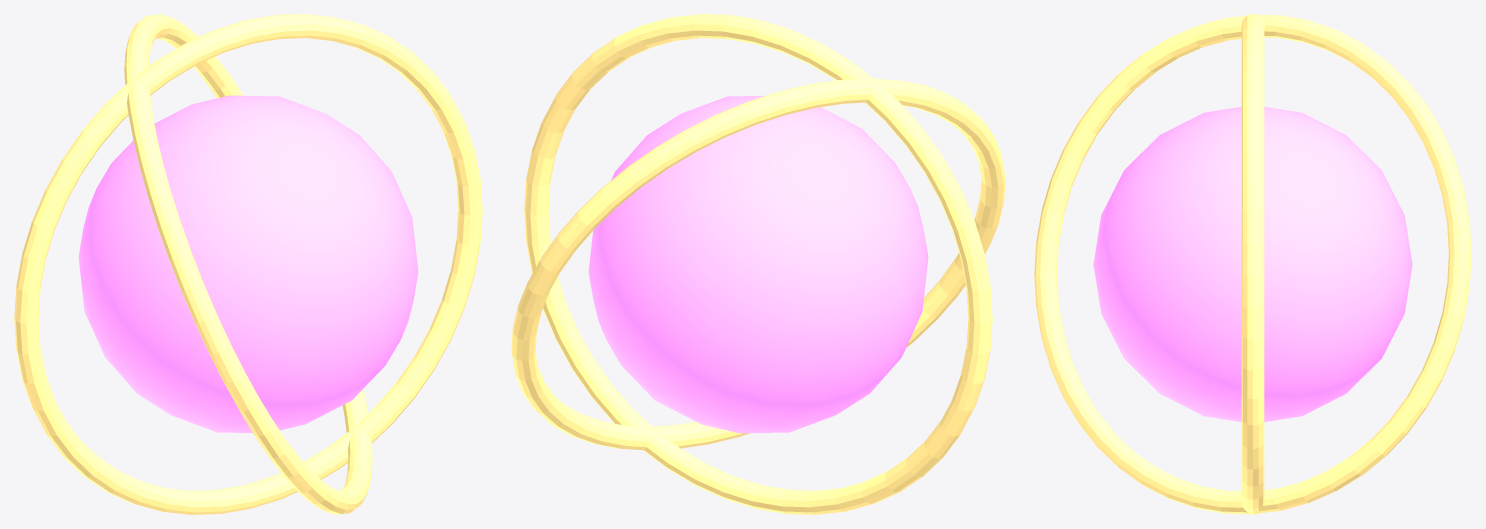
Rendered from orb.glb.
3 views of the same model, side by side, from view 1: azimuth 30°, elevation 25°; view 2: azimuth 150°, elevation 25°; view 3: azimuth 270°, elevation 25° (orthographic). The views are drawn at different scales.
Visible parts, largest first — view 1: OrbCore, OrbRingA, OrbRingB; view 2: OrbCore, OrbRingA, OrbRingB; view 3: OrbCore, OrbRingB, OrbRingA.
Boxes of the visible parts, left/top/right/bottom form: OrbCore: left=78, top=95, right=418, bottom=432; OrbRingA: left=14, top=14, right=482, bottom=514; OrbRingB: left=124, top=14, right=372, bottom=514; OrbCore: left=588, top=95, right=928, bottom=433; OrbRingA: left=524, top=14, right=992, bottom=514; OrbRingB: left=511, top=79, right=1005, bottom=450; OrbCore: left=1093, top=107, right=1412, bottom=421; OrbRingB: left=1034, top=14, right=1471, bottom=514; OrbRingA: left=1241, top=14, right=1264, bottom=514.
Bounding box in the file's own units: 0.88 × 0.88 × 0.7675.
